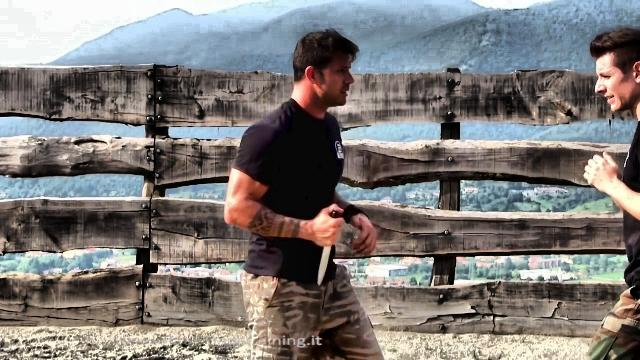knife: (312, 202, 346, 288)
